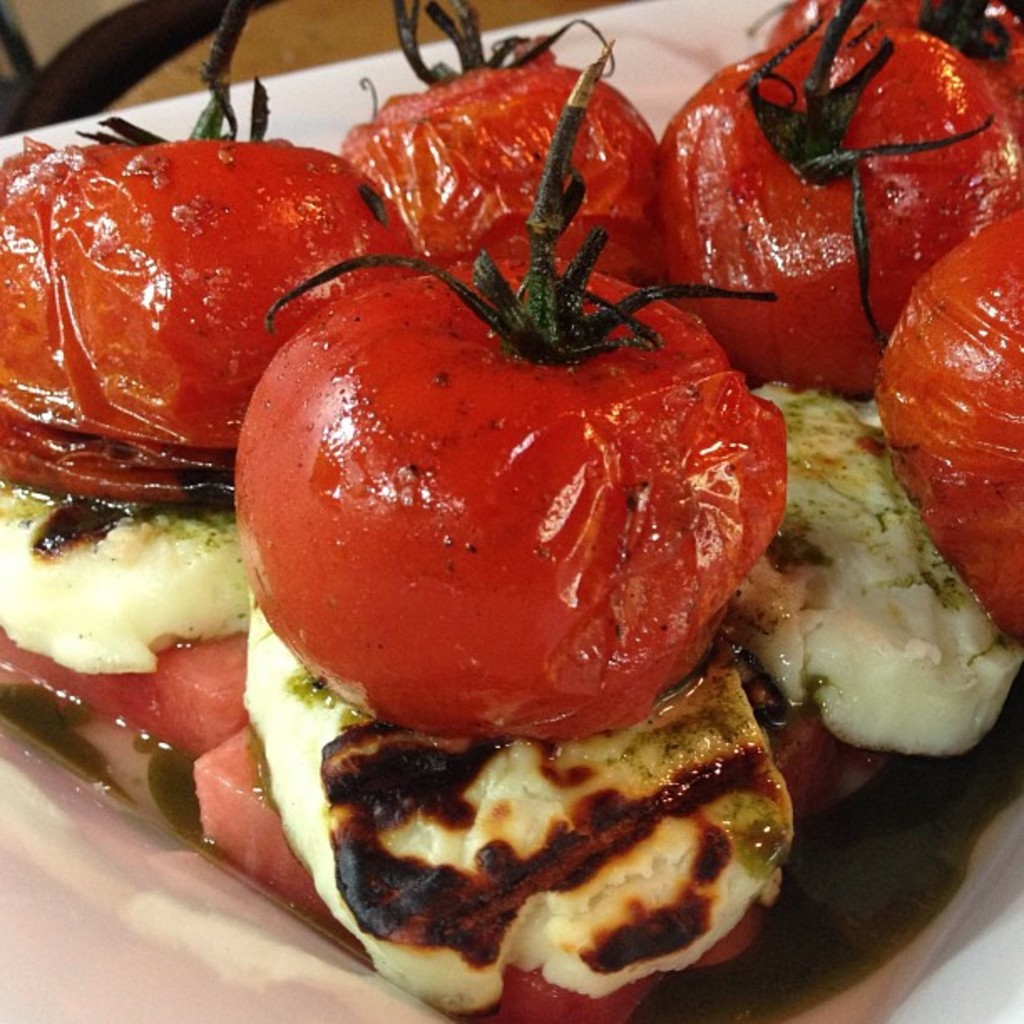Tomato: (0, 0, 1024, 742)
